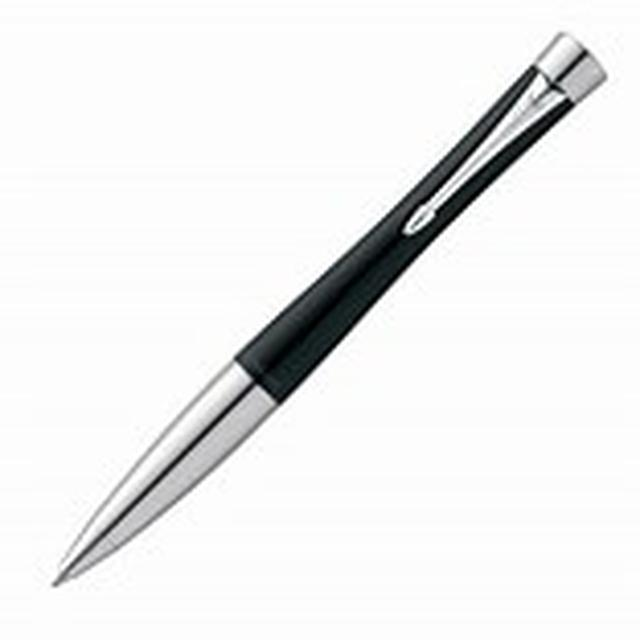pen: (32, 11, 604, 604)
